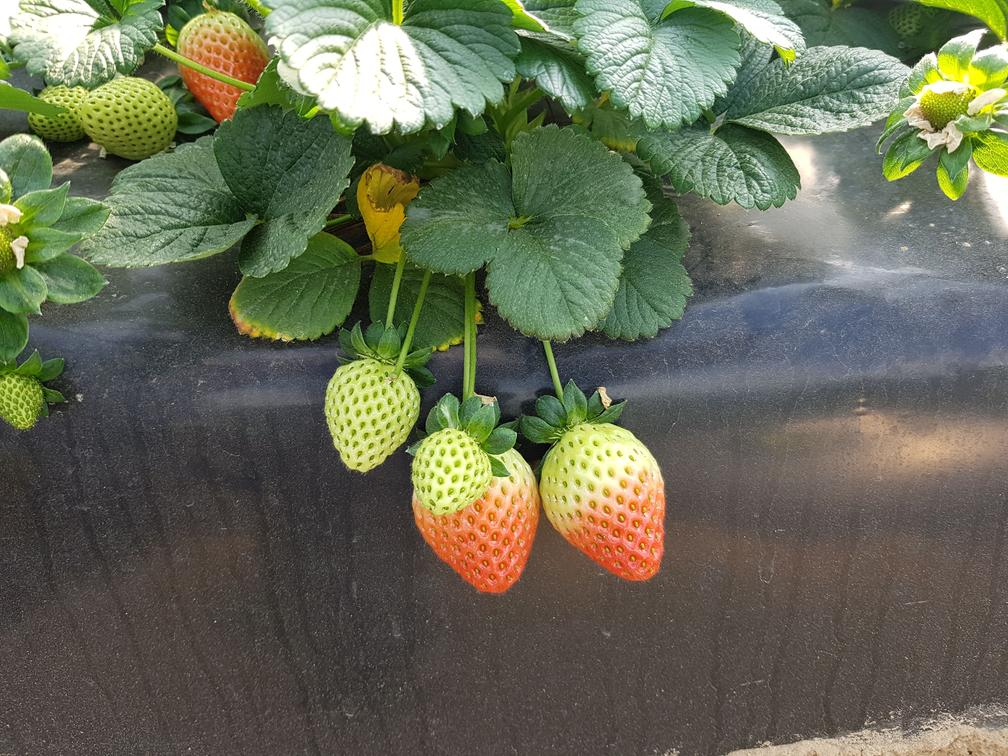Ripe: (544, 435, 686, 579), (424, 518, 552, 597)
Unripe: (324, 360, 418, 484), (77, 83, 189, 150), (419, 434, 492, 513), (1, 373, 49, 430)
